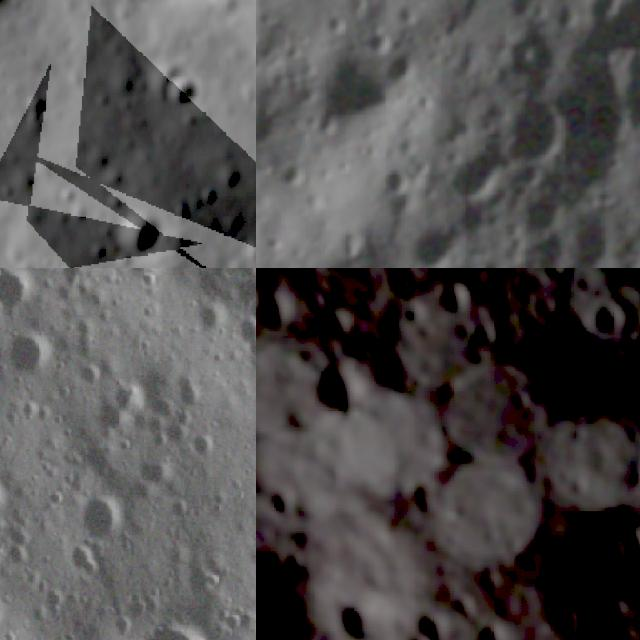crater: (538, 52, 640, 190), (308, 348, 380, 430), (494, 92, 566, 168), (322, 70, 400, 138), (557, 213, 622, 268), (334, 583, 396, 640), (445, 149, 508, 205), (70, 490, 132, 546), (4, 325, 57, 378), (109, 210, 167, 258), (430, 272, 479, 322), (158, 71, 210, 113), (134, 614, 216, 640), (603, 0, 640, 55), (256, 284, 293, 338), (586, 296, 628, 342), (259, 480, 299, 528), (0, 268, 38, 318), (412, 227, 458, 268), (186, 292, 226, 338), (310, 301, 350, 344), (589, 593, 629, 636), (379, 161, 416, 199), (410, 606, 450, 640), (549, 0, 583, 39), (384, 52, 421, 85), (228, 305, 256, 348), (381, 268, 418, 300), (615, 517, 640, 562), (190, 429, 220, 465), (282, 158, 308, 192), (216, 610, 248, 636), (475, 621, 518, 640), (0, 470, 12, 530), (234, 237, 256, 266), (572, 630, 612, 640)
